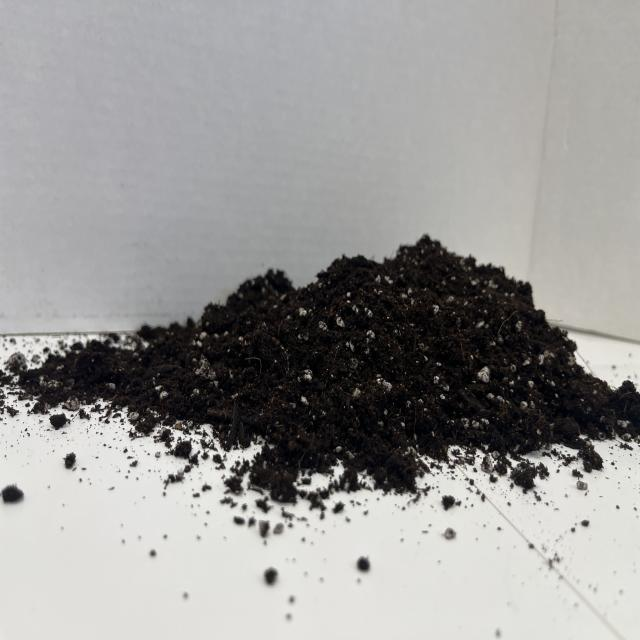soil: (5, 232, 638, 504)
